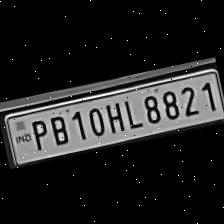0: (82, 102, 108, 138)
1: (65, 105, 90, 142), (195, 76, 218, 112)
2: (174, 80, 200, 116)
8: (136, 88, 164, 126), (156, 84, 180, 120)
B: (44, 108, 72, 146)
H: (100, 96, 127, 133)
L: (119, 92, 142, 130)
P: (24, 113, 51, 151)
